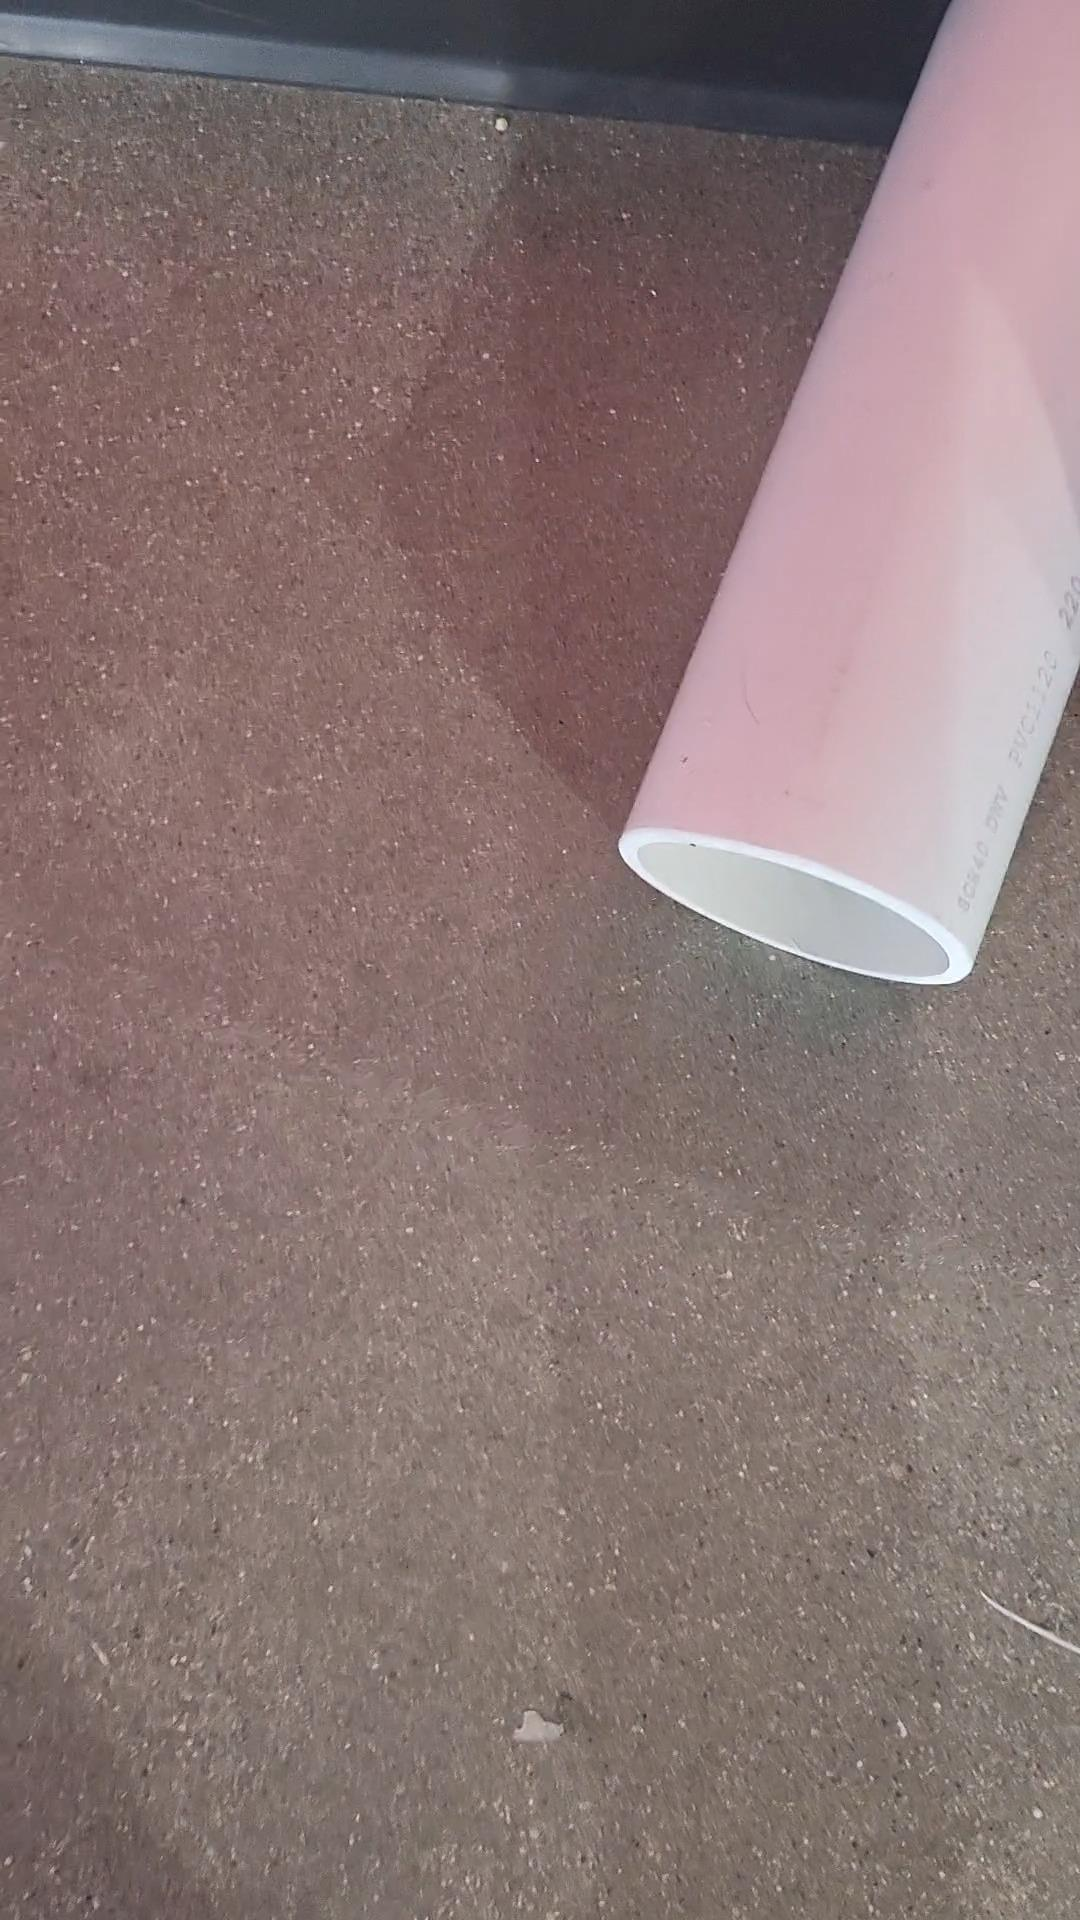coral: (608, 0, 1080, 997)
